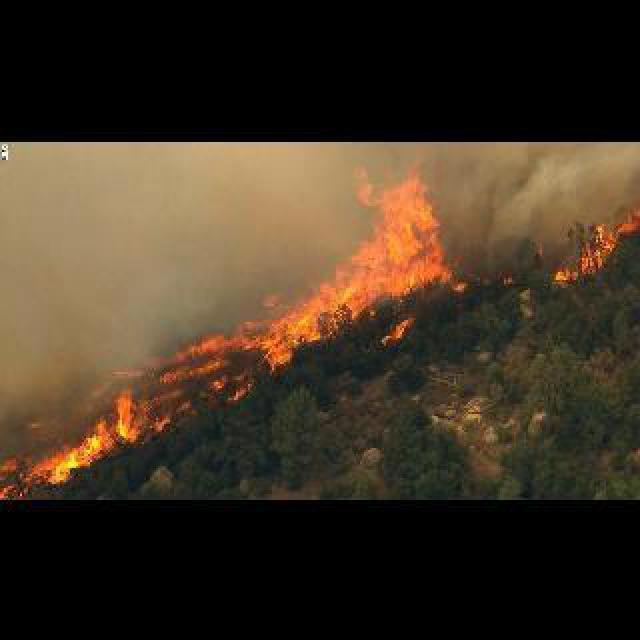Fire: (254, 166, 458, 360), (10, 334, 236, 482), (554, 202, 636, 278)
